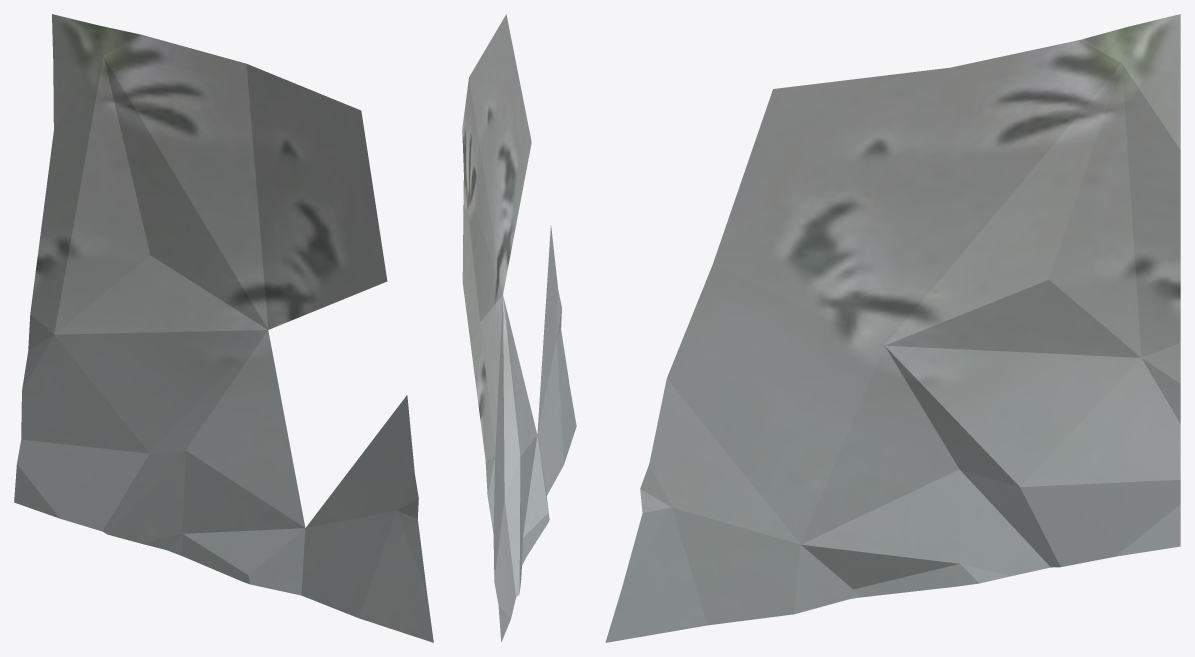
The picture shows the model from 3 angles, left to right: view 1: azimuth 30°, elevation 25°; view 2: azimuth 150°, elevation 25°; view 3: azimuth 270°, elevation 25°; orthographic projection. The views are drawn at different scales.
Bounding box in the file's own units: 0.3125 × 0.8374 × 0.7881.
3 materials, 3 textured.
